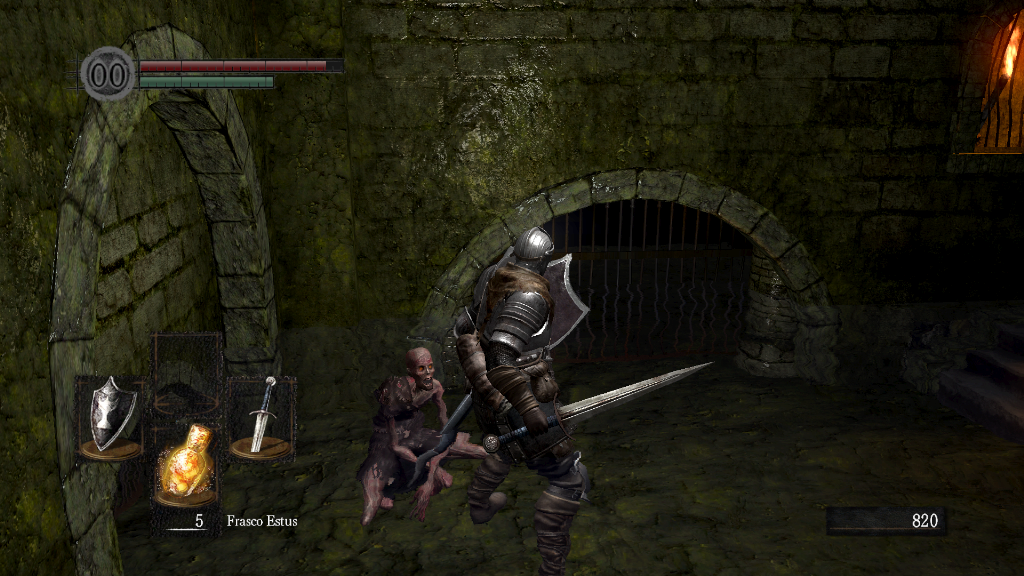health: (138, 58, 343, 71)
hollow: (359, 348, 489, 529)
humanity: (80, 45, 136, 102)
player: (452, 226, 715, 576)
souls: (825, 506, 945, 536)
stamina: (138, 74, 274, 88)
